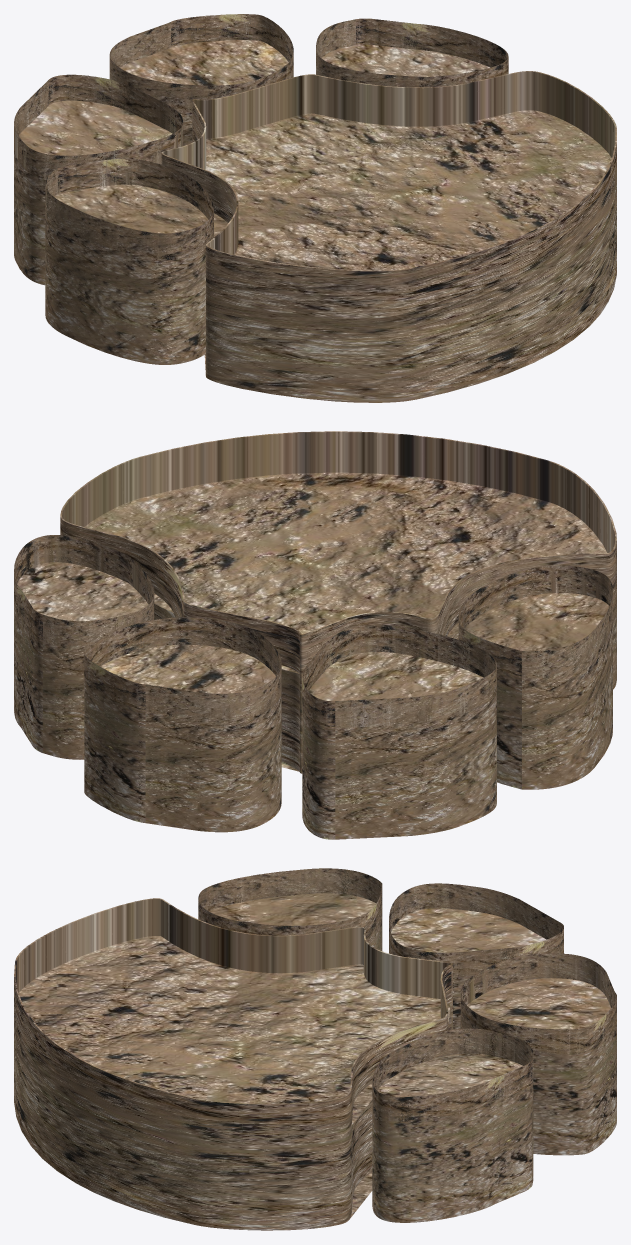
File: elephantFootPrint.fbx
3 renders of one model, top to bottom at view 1: azimuth 30°, elevation 25°; view 2: azimuth 150°, elevation 25°; view 3: azimuth 270°, elevation 25°, orthographic. The views are drawn at different scales.
Parts seen in each view (by area): view 1: Extrude; view 2: Extrude; view 3: Extrude.
Part boxes in pixels (x1,y1,x2,y2): Extrude: [14, 14, 616, 402]; Extrude: [14, 431, 616, 839]; Extrude: [14, 868, 616, 1230].
Size of the model in its own units: 60.29 by 15 by 65.04.
1 material, 1 textured.
